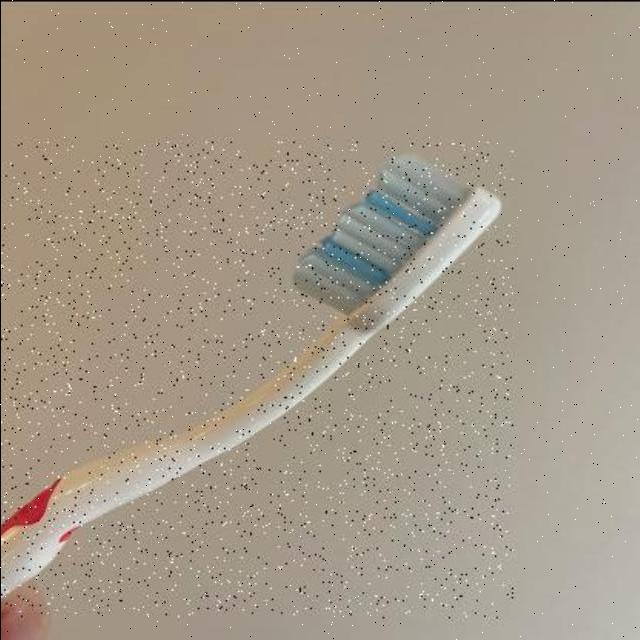toothbrush: (0, 140, 512, 616)
